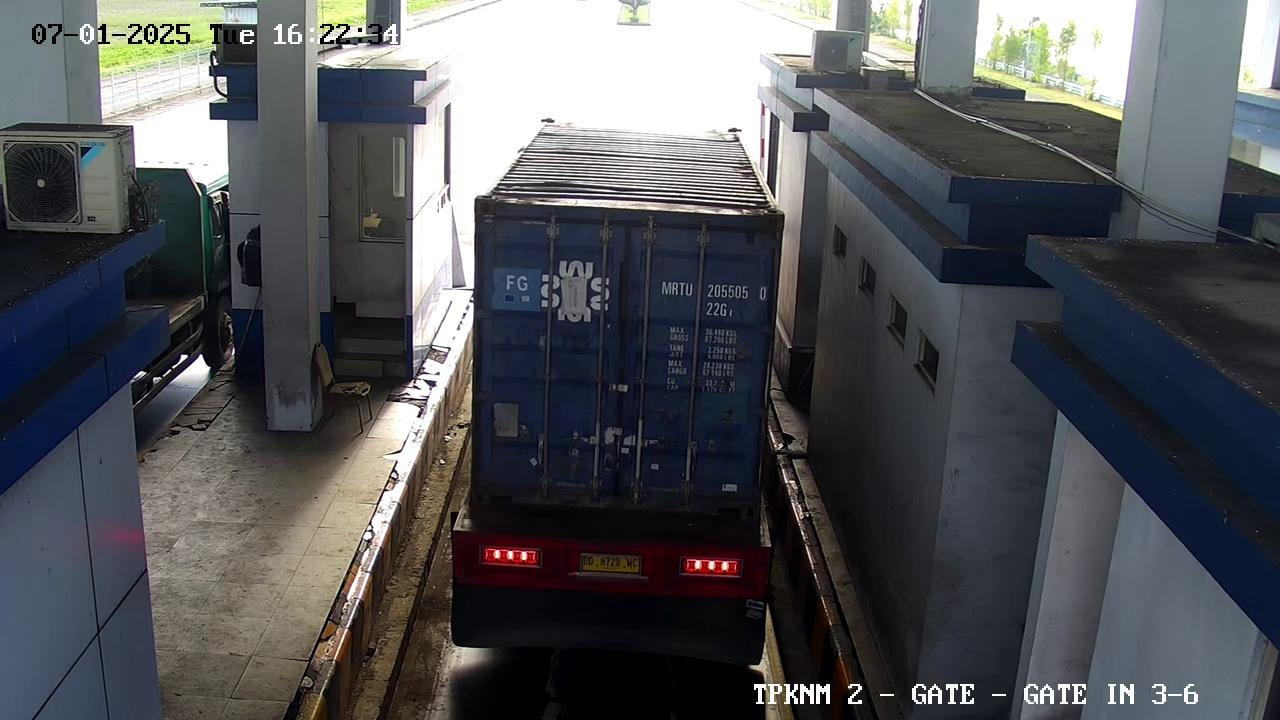Container_ID: (647, 274, 782, 323)
plate_number: (570, 549, 649, 580)
